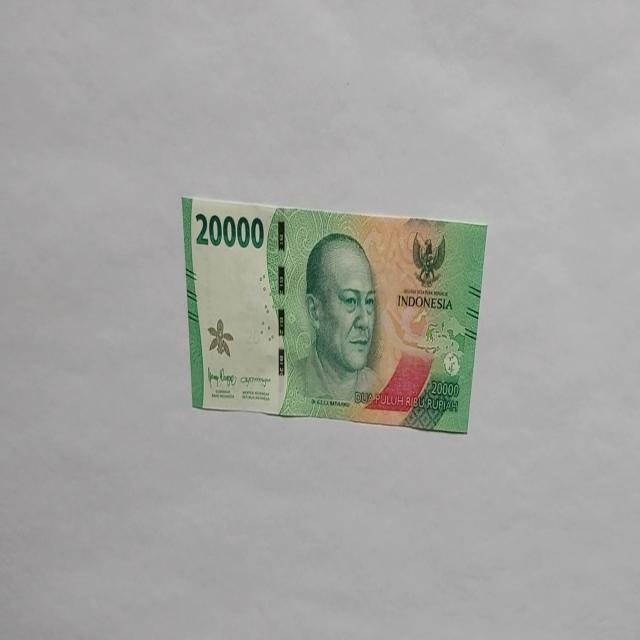dua puluh ribu rupiah: (180, 193, 488, 434), (293, 229, 385, 408)
